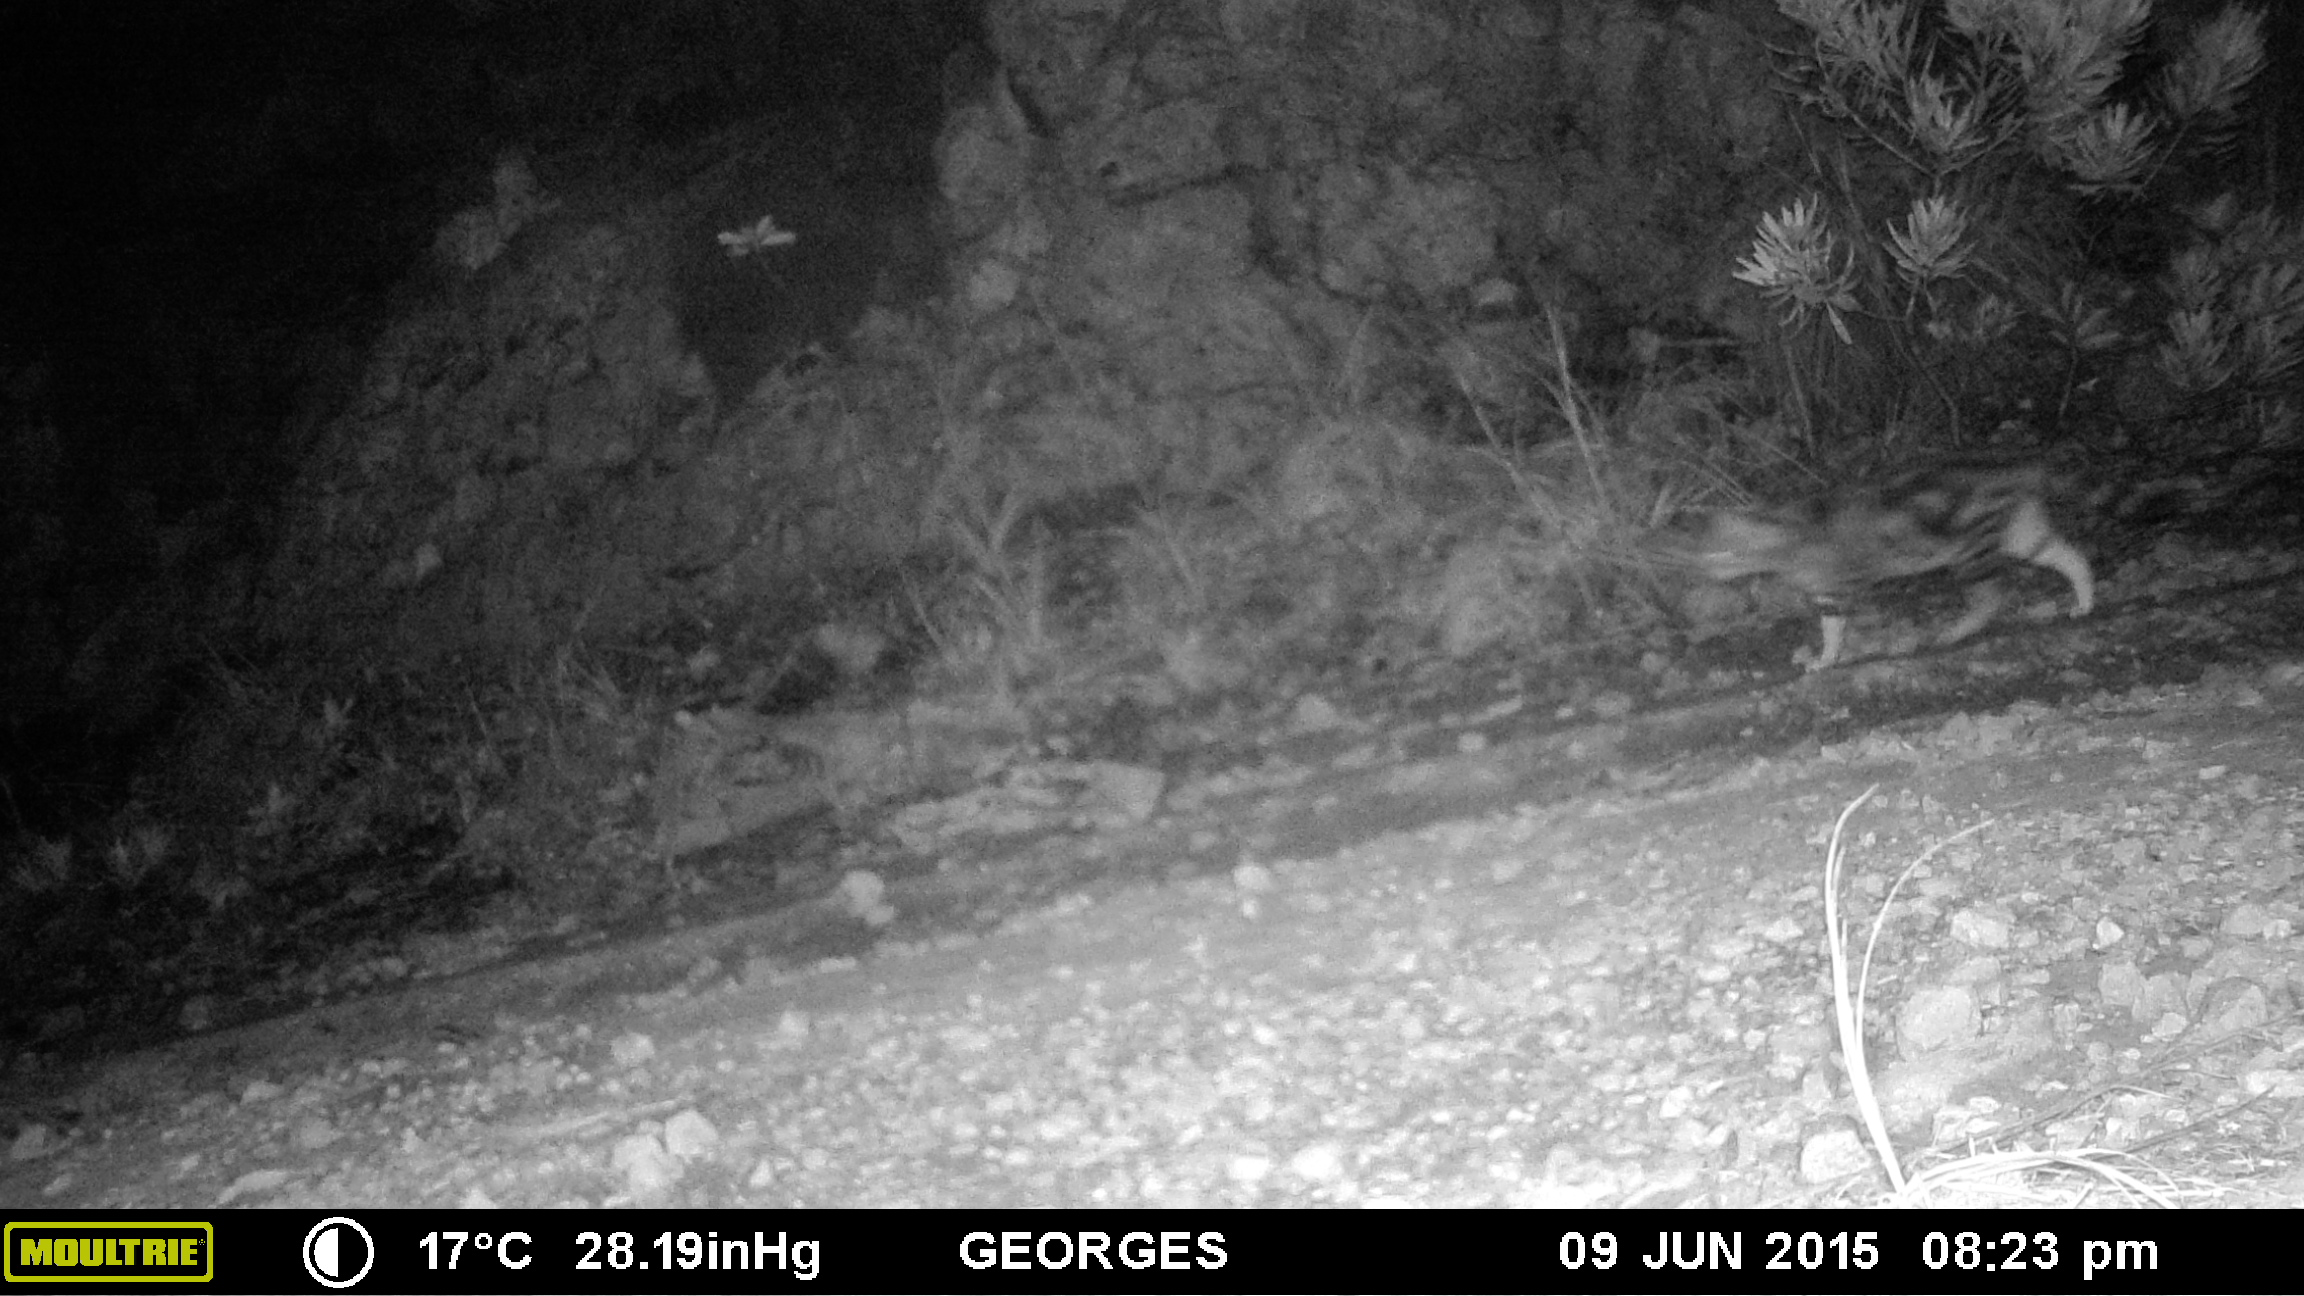cat: (1696, 426, 2154, 690)
